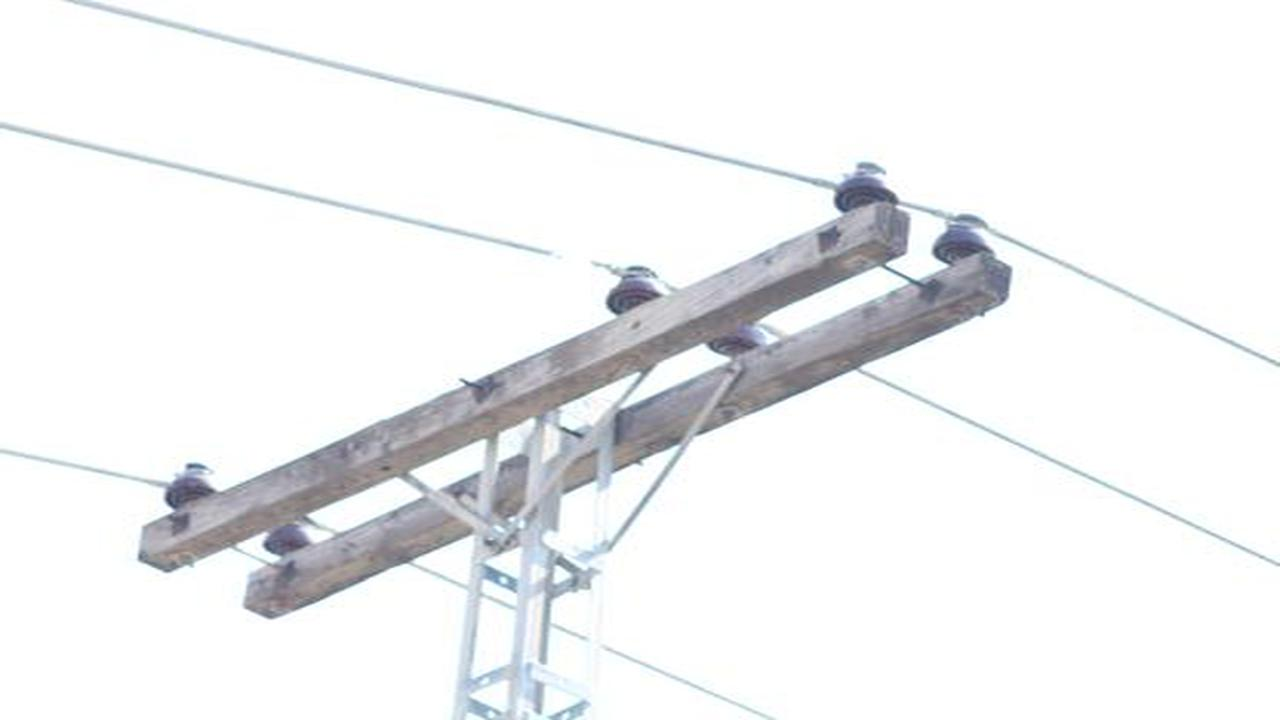insulator_pin: (824, 158, 902, 214), (594, 261, 669, 315), (933, 211, 998, 270), (161, 456, 220, 505)
